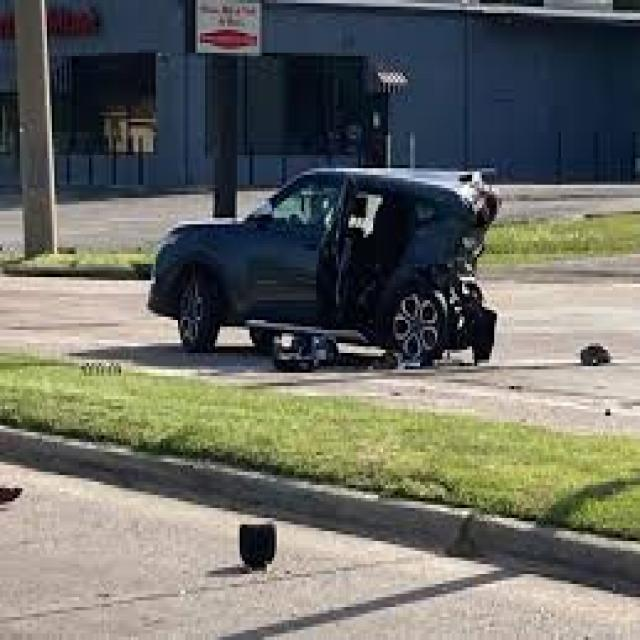accident: (147, 130, 546, 398)
